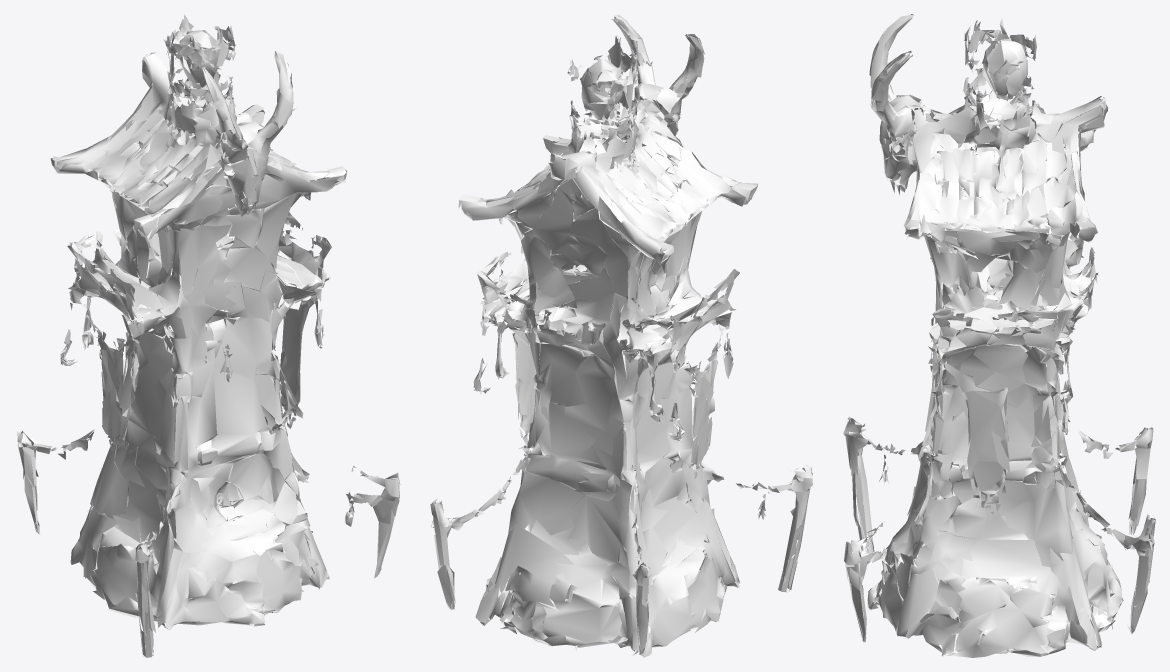
The model's file is shaman_tower_lo.glb.
3 views of the same model, side by side, from view 1: azimuth 30°, elevation 25°; view 2: azimuth 150°, elevation 25°; view 3: azimuth 270°, elevation 25° (orthographic). The views are drawn at different scales.
Parts seen in each view (by area): view 1: output_unwrapped; view 2: output_unwrapped; view 3: output_unwrapped.
Part boxes in pixels (x1,y1,x2,y2): output_unwrapped: (15, 14, 401, 657); output_unwrapped: (430, 14, 814, 657); output_unwrapped: (843, 14, 1155, 657).
Bounding box in the file's own units: 8.94 × 18.03 × 8.7.
Materials: 1 (1 with a texture image).
